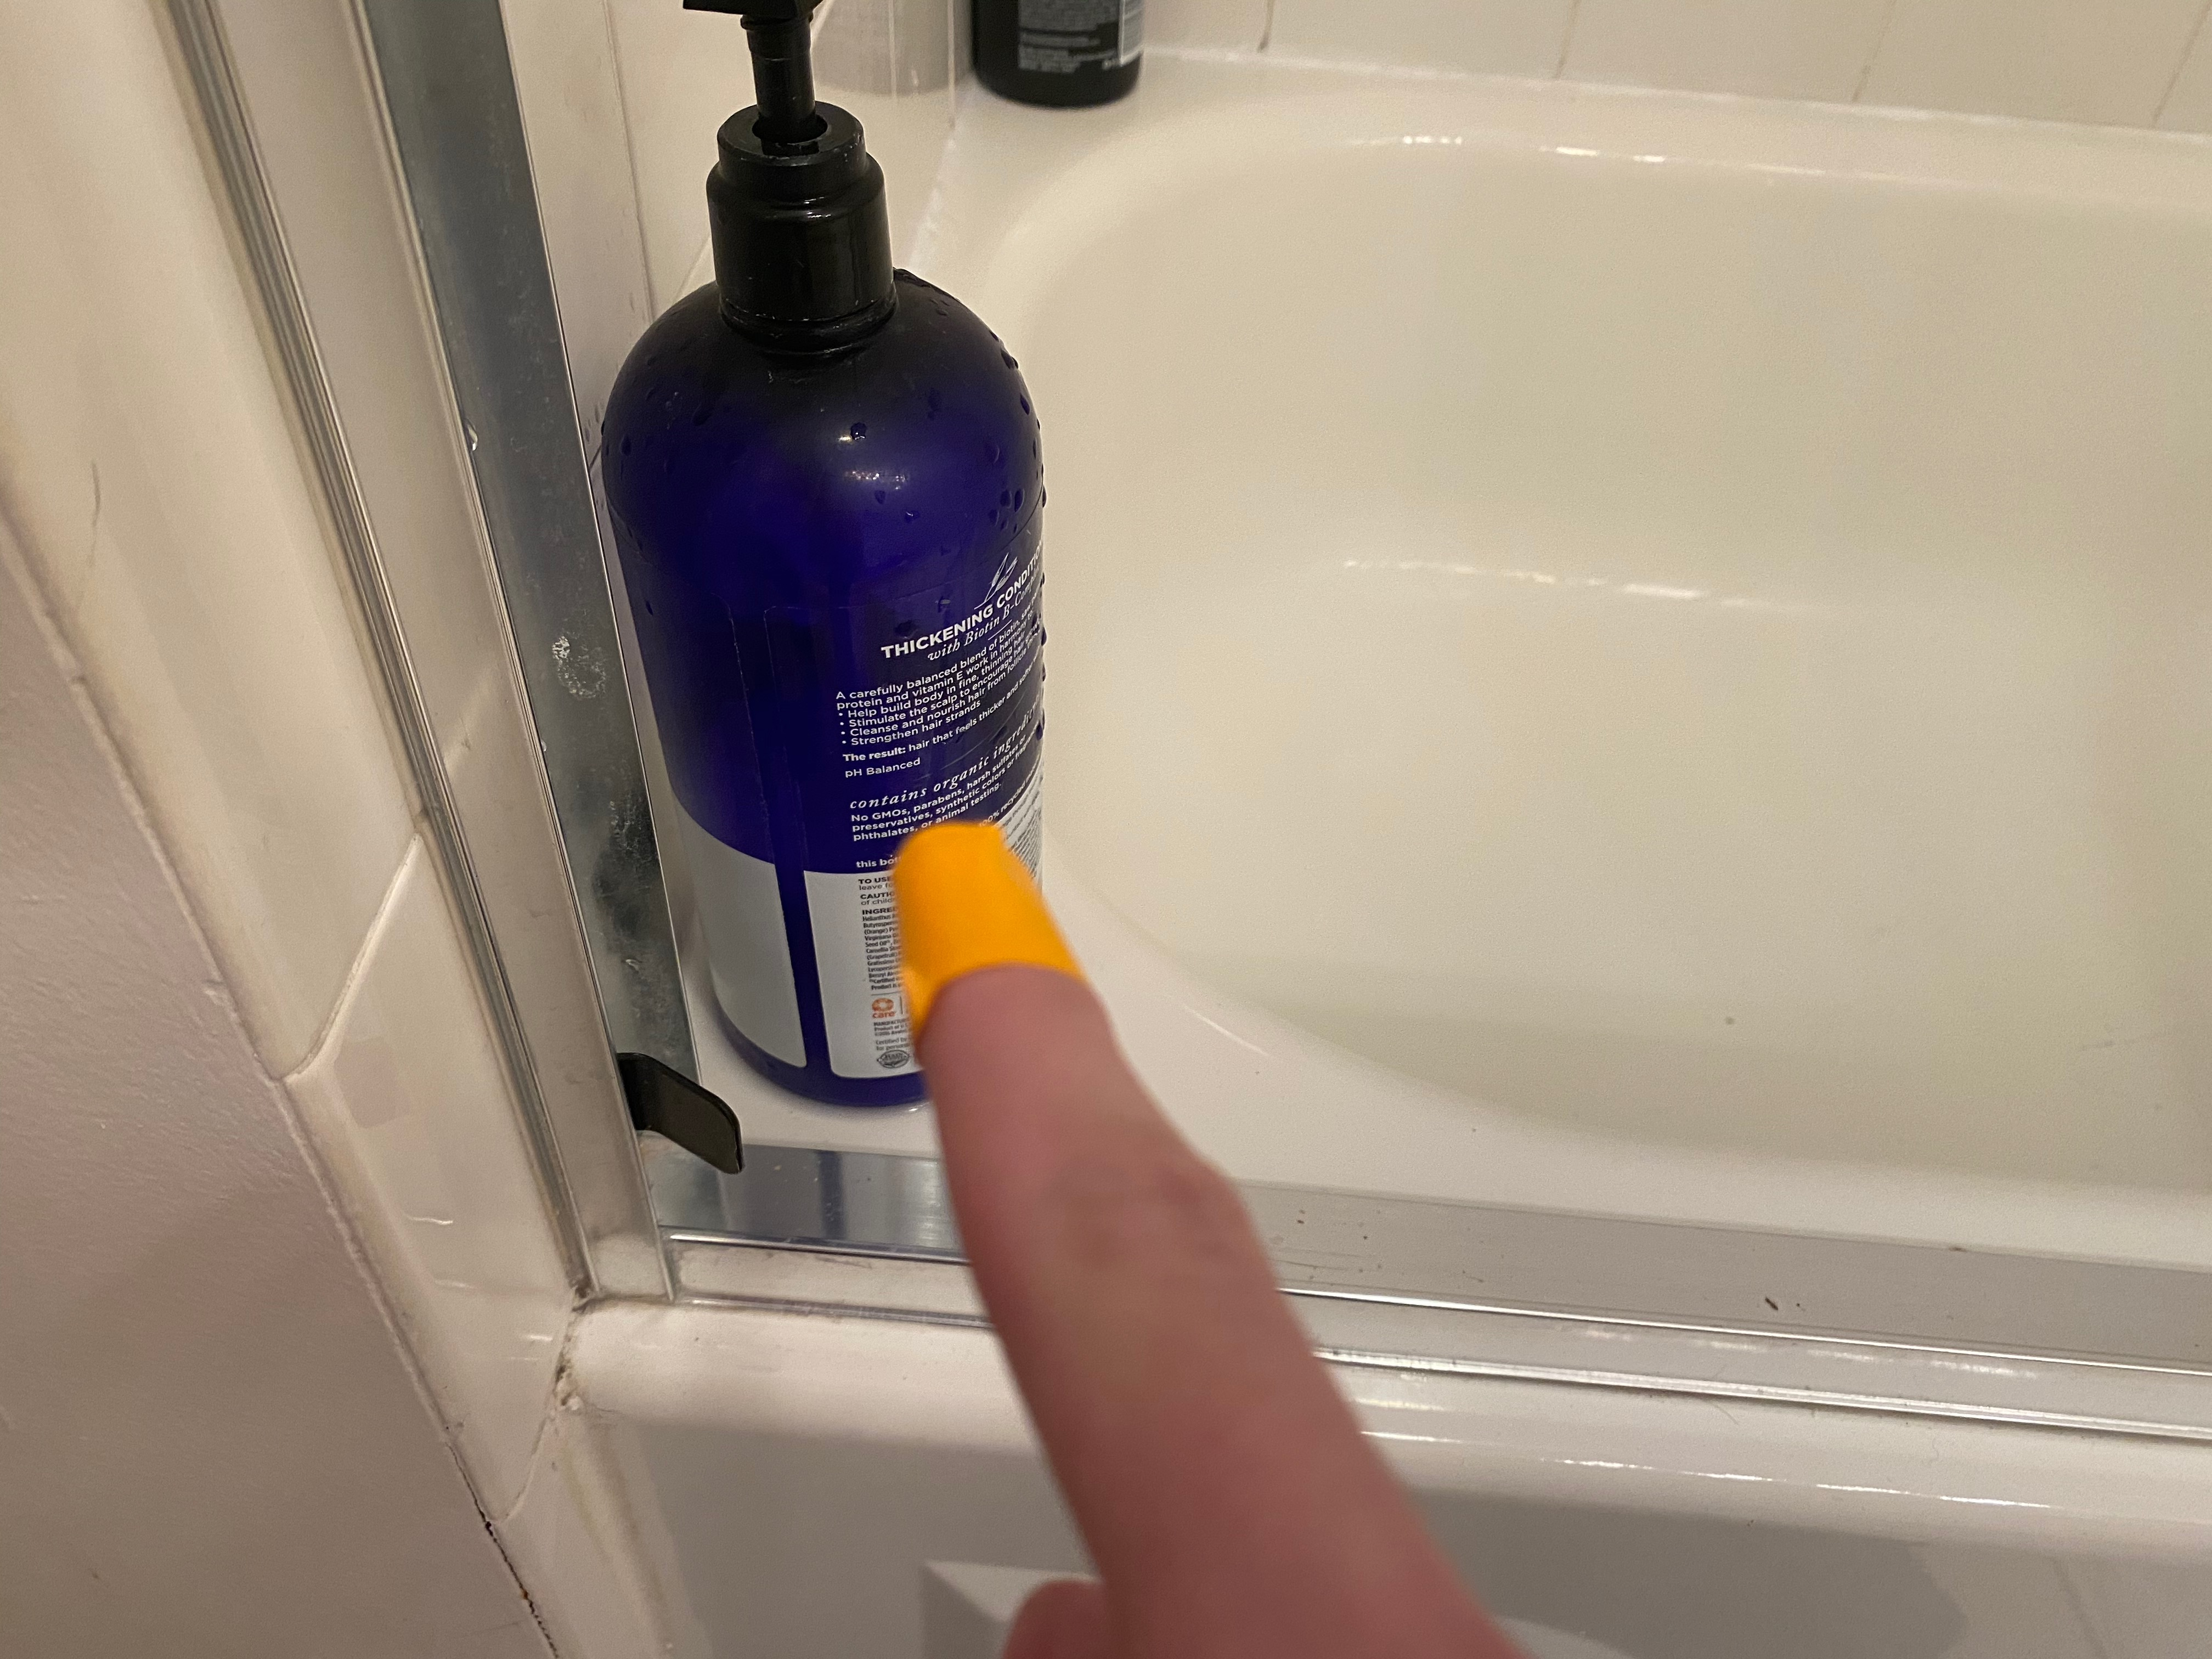fingertip: (846, 784, 1123, 1053)
